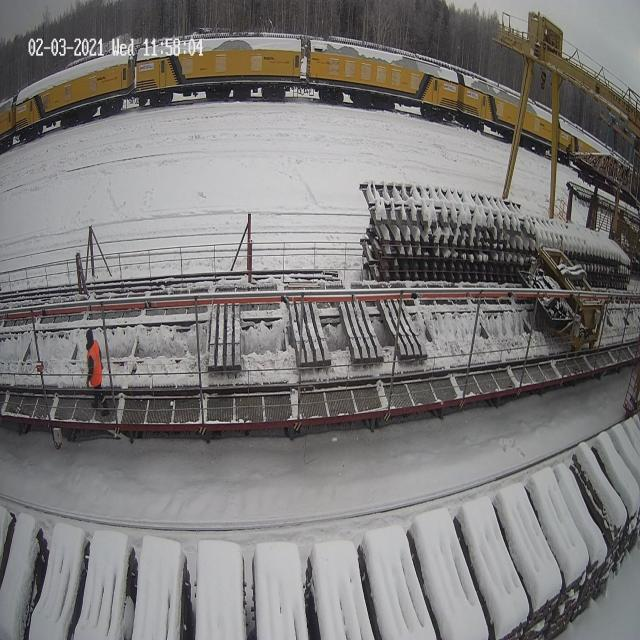Helmet: (86, 329, 93, 348)
Person: (86, 328, 104, 408)
